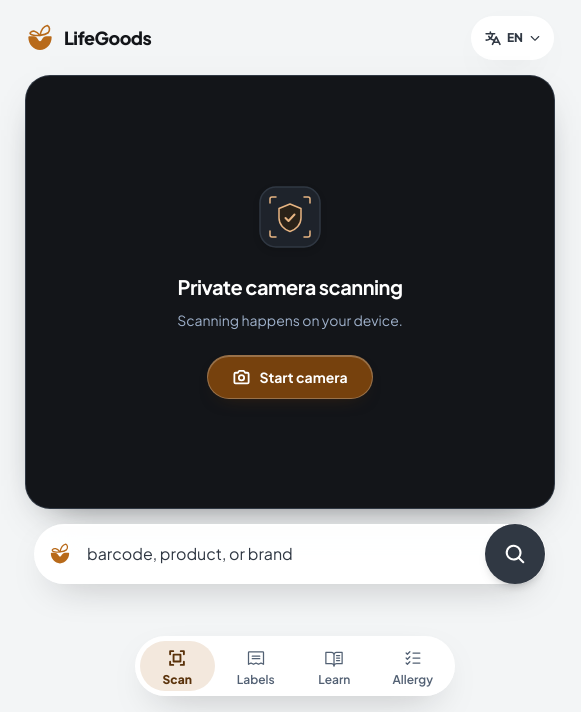
Compare Nutrition frontend page (/compare) › uses the shared Scan locale without a Compare language control
The image size is (581, 712).
Click the button with aria-label "Language: English": {"x": 512, "y": 38} [471,16,554,60]
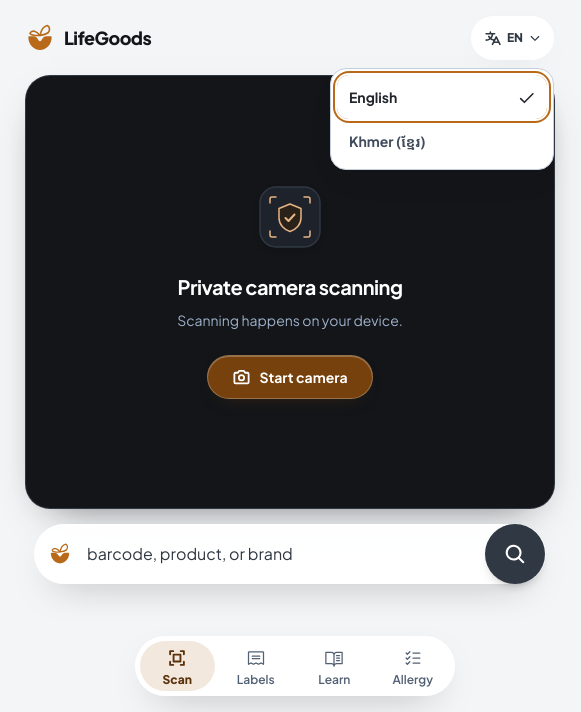
Click the menu item "Khmer (ខ្មែរ)": {"x": 442, "y": 141} [337,119,547,163]
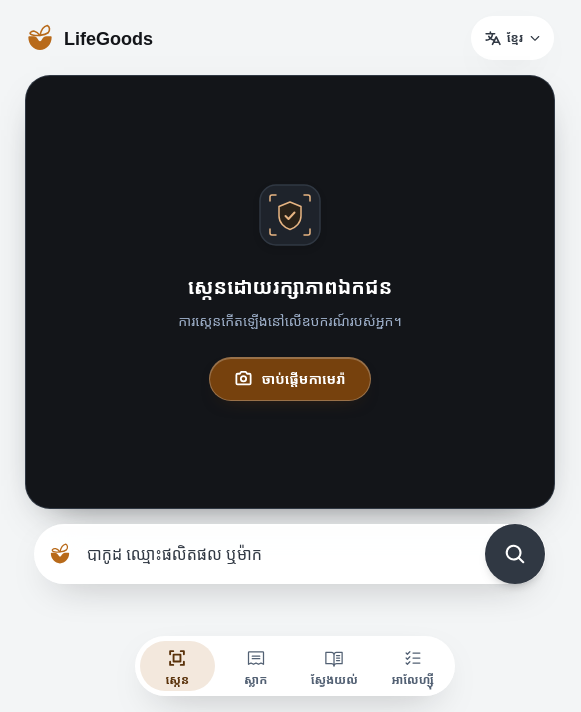
Click the link "ស្លាក": {"x": 256, "y": 668} [244,648,267,688]
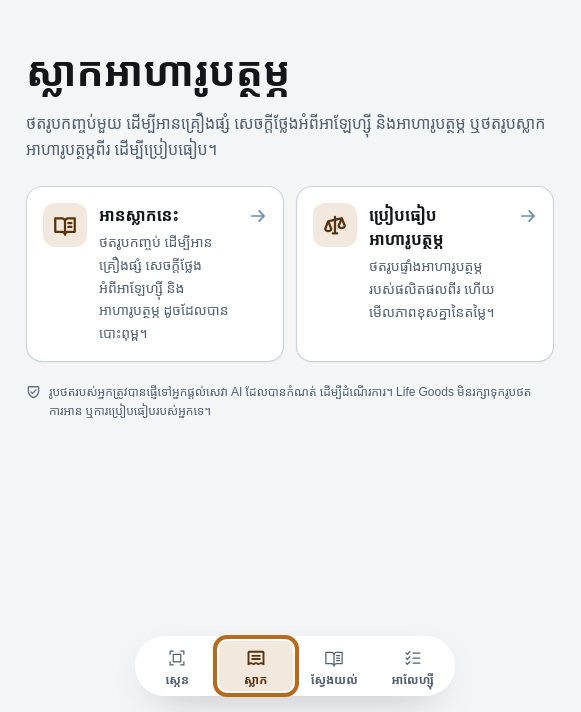
Click the link "ប្រៀបធៀបអាហារូបត្ថម្ភ": {"x": 425, "y": 274} [296,186,554,362]
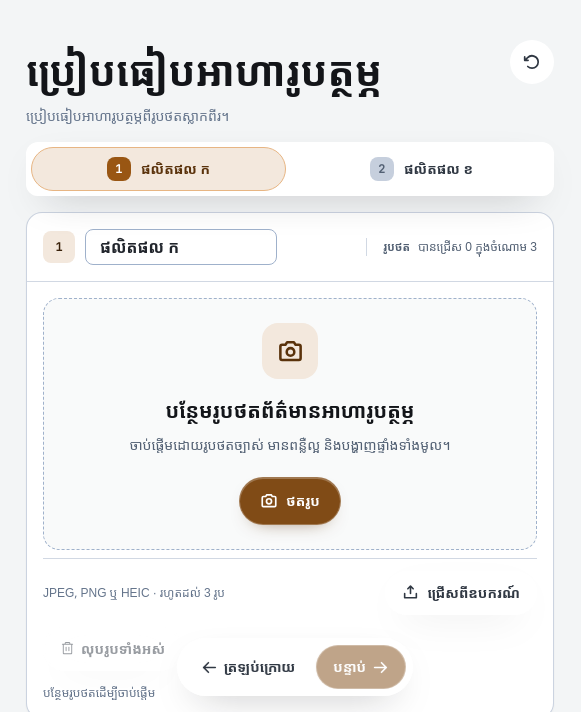
Expected: the heading "ប្រៀបធៀបអាហារូបត្ថម្ភ" is shown, [26,40,382,102]
